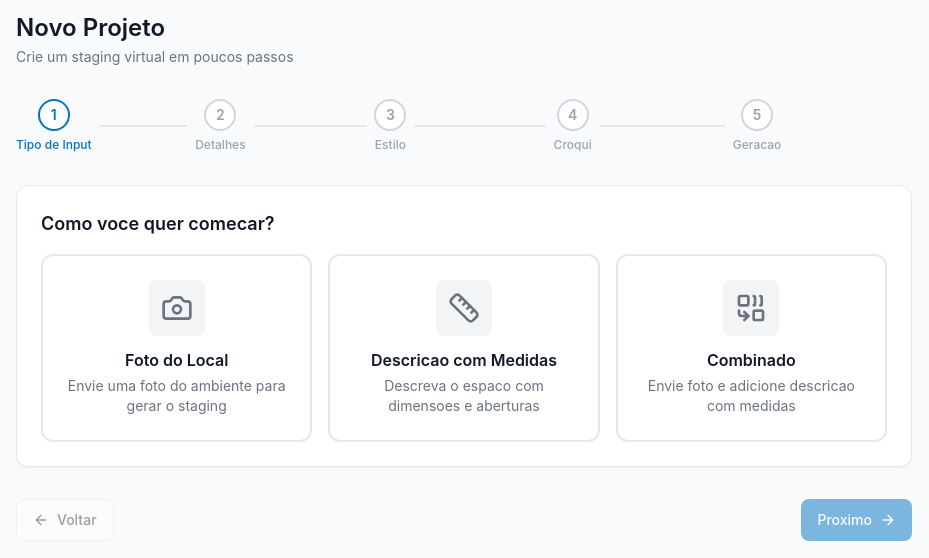
Scenario: NewProjectPage › enables Proximo button after selecting input type
Click the heading "Foto do Local": (177, 360) [125,350,228,370]
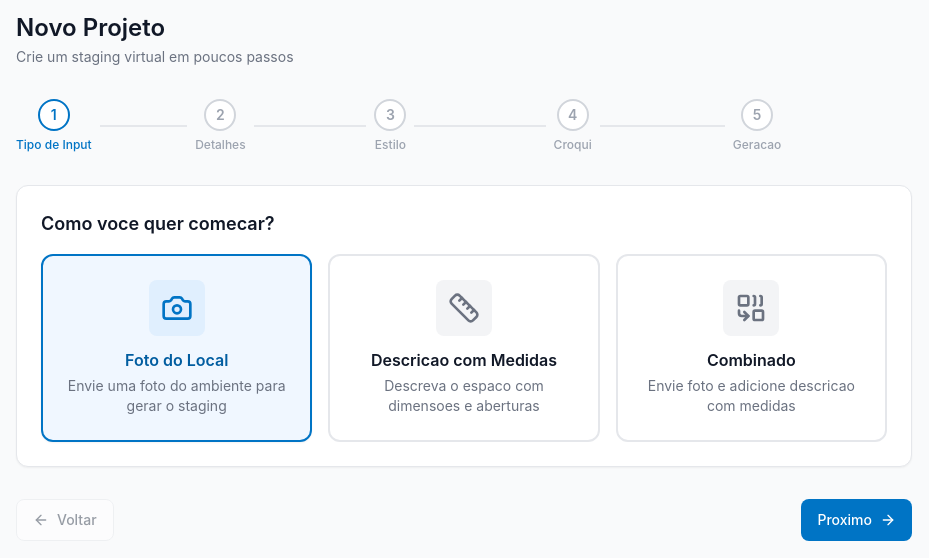
Check: the button "Proximo" is enabled, box [802,499,912,541]
